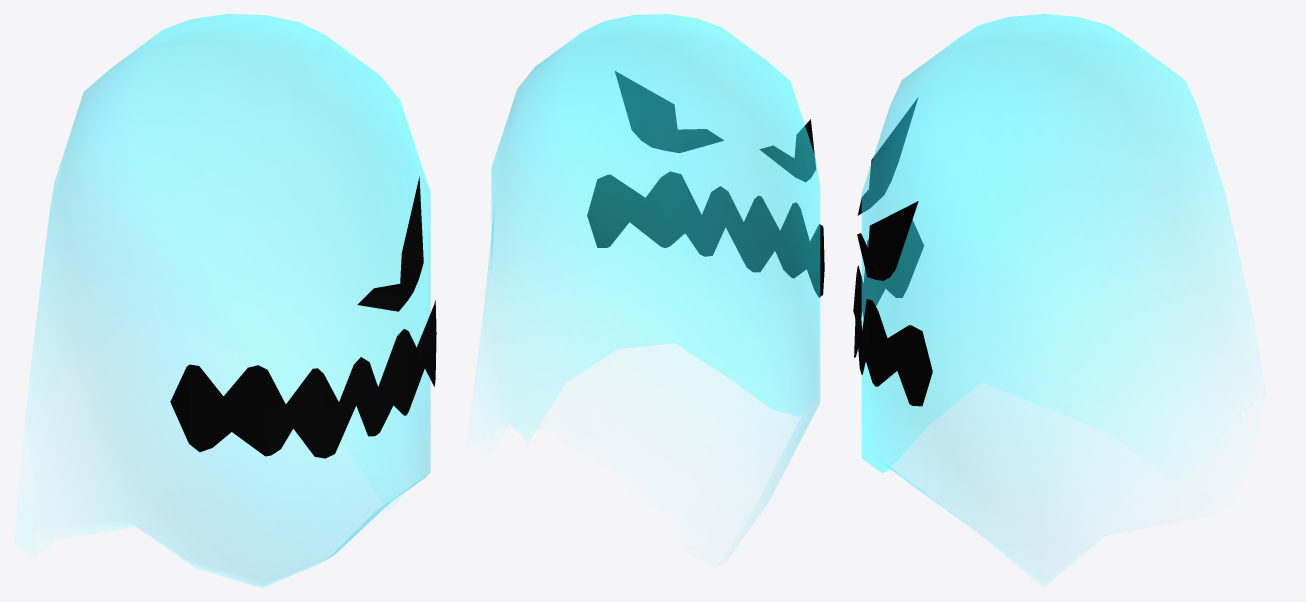
The model's file is ghost_small.glb.
3 renders of one model, left to right at view 1: azimuth 30°, elevation 25°; view 2: azimuth 150°, elevation 25°; view 3: azimuth 270°, elevation 25°, orthographic. The views are drawn at different scales.
Visible parts, largest first — view 1: Cylinder.018, Plane.011; view 2: Cylinder.018, Plane.011; view 3: Cylinder.018, Plane.011.
Part boxes in pixels (x1,y1,x2,y2): Cylinder.018: (29, 14, 430, 587); Plane.011: (170, 176, 436, 458); Cylinder.018: (478, 14, 820, 510); Plane.011: (587, 71, 824, 297); Cylinder.018: (861, 14, 1247, 574); Plane.011: (853, 97, 932, 406).
Size of what is drawn, in the model's own units: 2 by 3.24 by 2.41.
2 materials, 1 textured.
